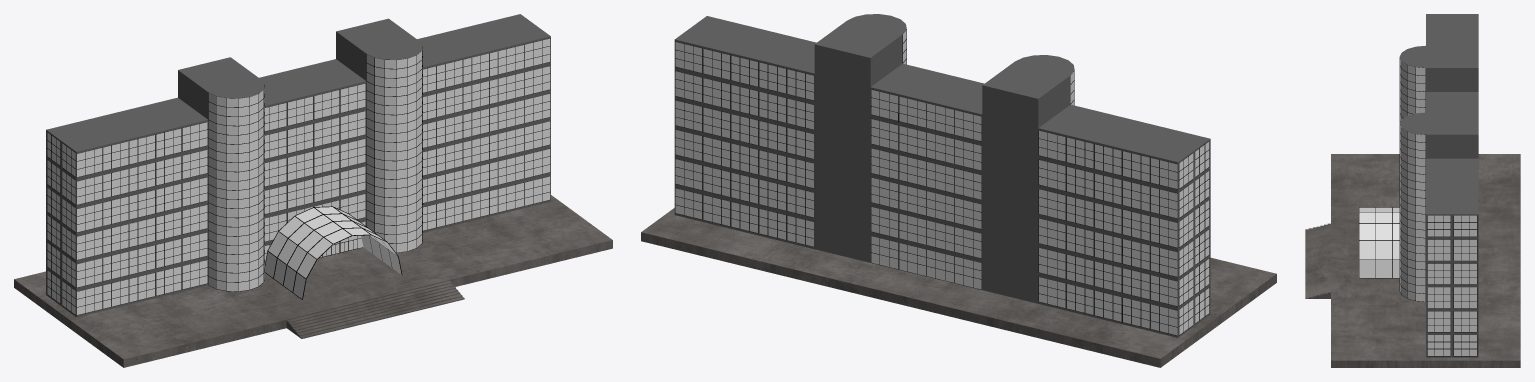
File: uploads_files_4724772_Mall.fbx
The picture shows the model from 3 angles, left to right: view 1: azimuth 30°, elevation 25°; view 2: azimuth 150°, elevation 25°; view 3: azimuth 270°, elevation 25°; orthographic projection. The views are drawn at different scales.
Visible parts, largest first — view 1: Plane, Plane.002, Circle.005; view 2: Plane, Plane.002; view 3: Plane.002, Plane, Circle.005.
Part boxes in pixels (x1,y1,x2,y2): Plane: (46,14,550,317); Plane.002: (14,195,612,367); Circle.005: (265,206,402,299); Plane: (674,14,1210,337); Plane.002: (641,208,1276,367); Plane.002: (1305,154,1520,367); Plane: (1399,14,1478,357); Circle.005: (1359,207,1399,278).
Bounding box in the file's own units: 6459 × 2543 × 2849.
Materials: 4 (1 with a texture image).
